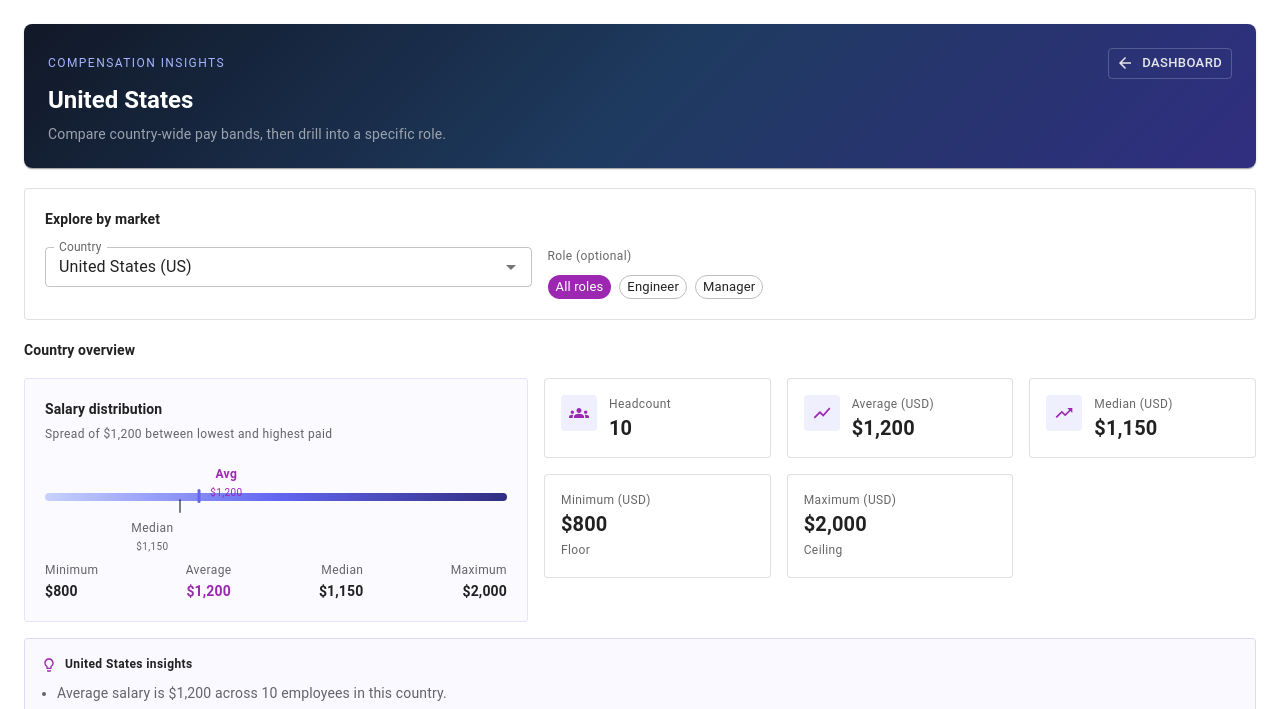
it: InsightsPage — country view › re-fetches country stats when country selector changes
The width and height of the screenshot is (1280, 709).
Check: the heading "Country overview" is shown, box top-left (24, 342), bottom-right (135, 358)
Check: the heading "10" is shown, box top-left (609, 416), bottom-right (632, 440)
Clear the dropdown labelled "Country" at (259, 267), box top-left (51, 253), bottom-right (466, 281)
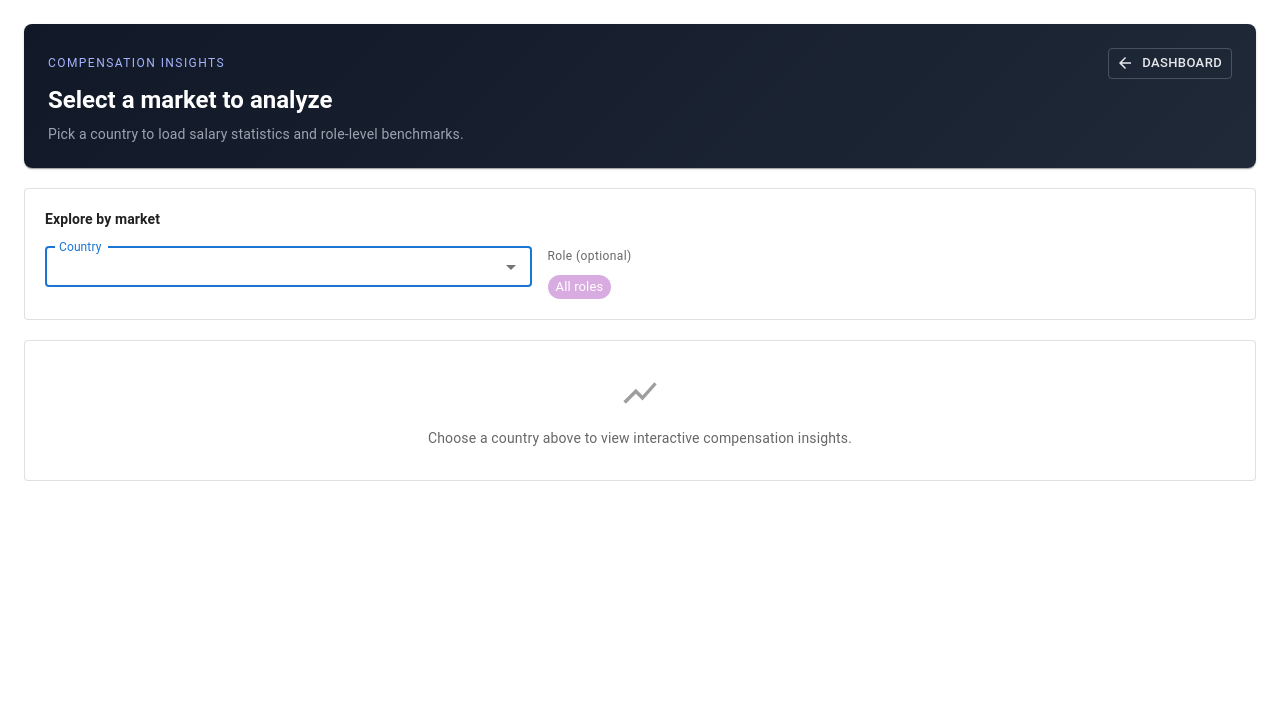
Type "United Kingdom" into the dropdown labelled "Country" at (272, 267), box top-left (51, 253), bottom-right (492, 281)
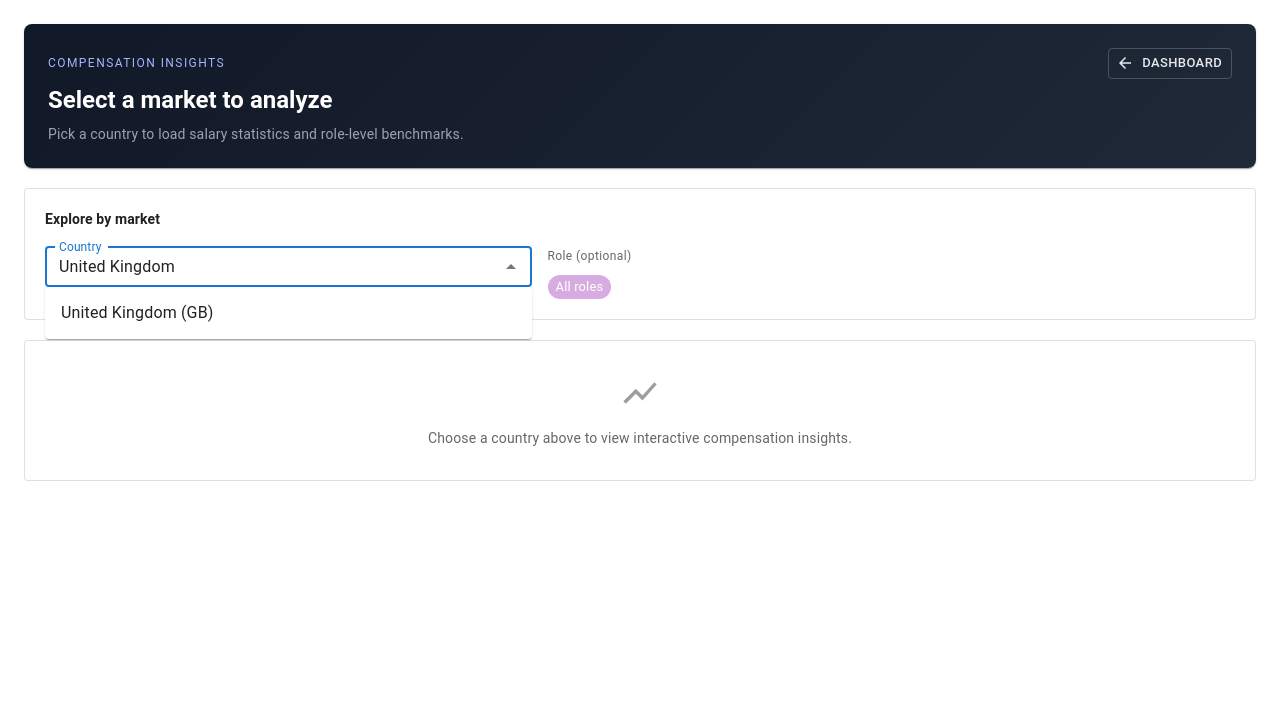
Click the option "United Kingdom (GB)" at (137, 312), box top-left (61, 303), bottom-right (214, 322)
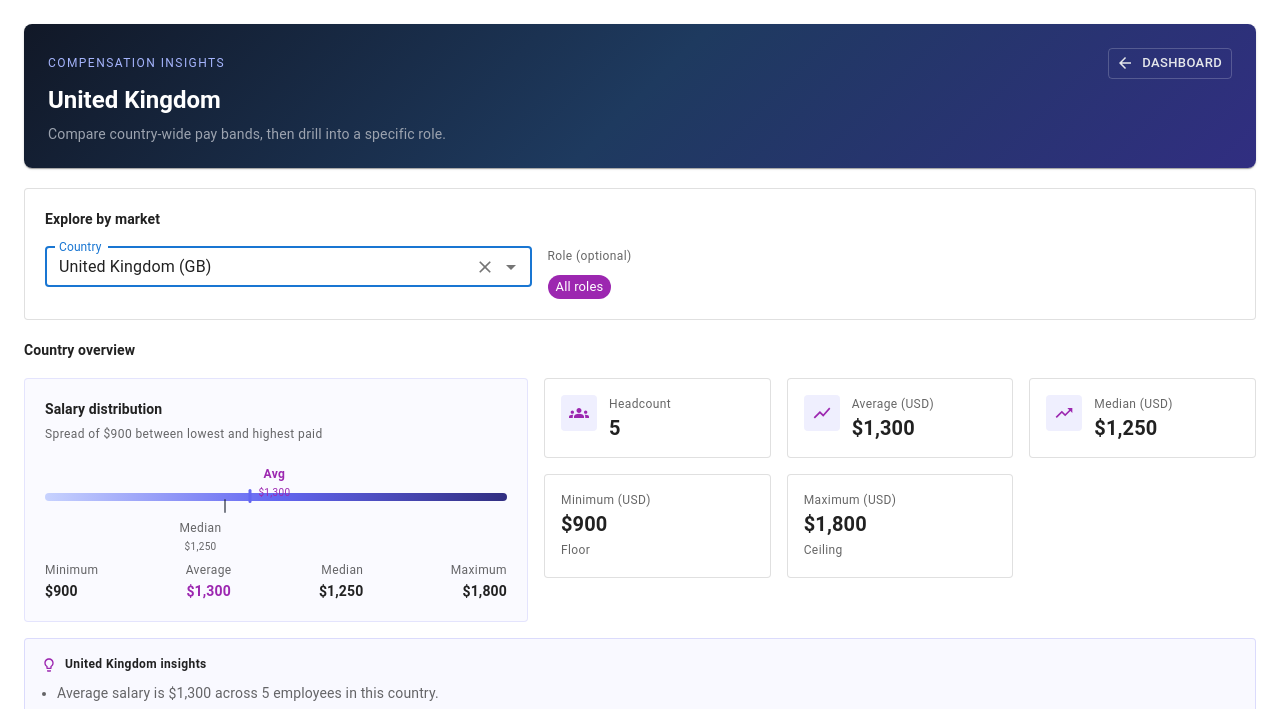
Check: the heading "10" is not shown
Check: the heading "5" is shown, box top-left (609, 416), bottom-right (621, 440)
